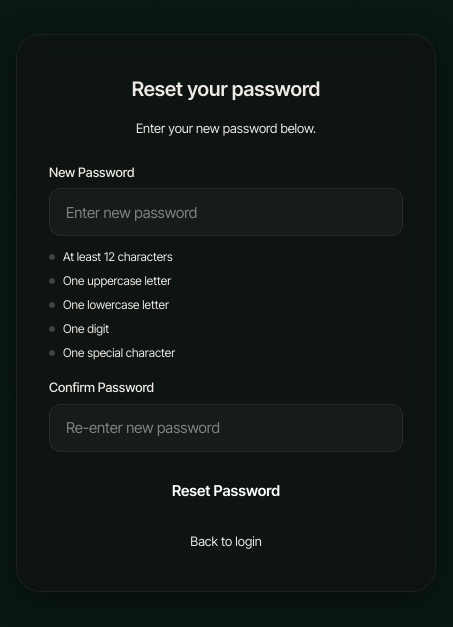
ResetPasswordPage › shows error when passwords do not match
In the password field labelled "New Password": (226,212) [49,188,403,236], type "NewPassword2@"
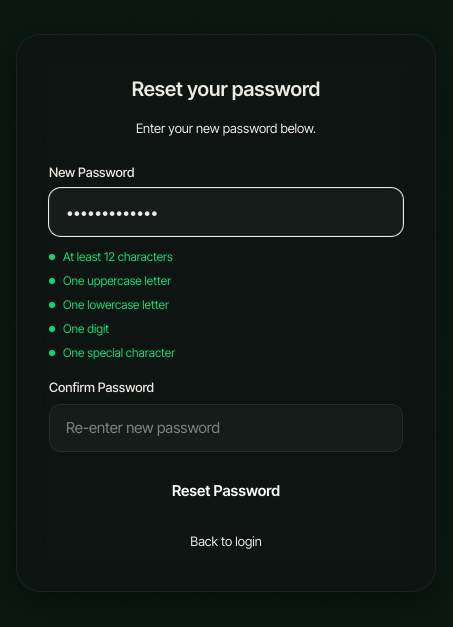
In the password field labelled "Confirm Password": (226,428) [49,404,403,452], type "Different2@!"
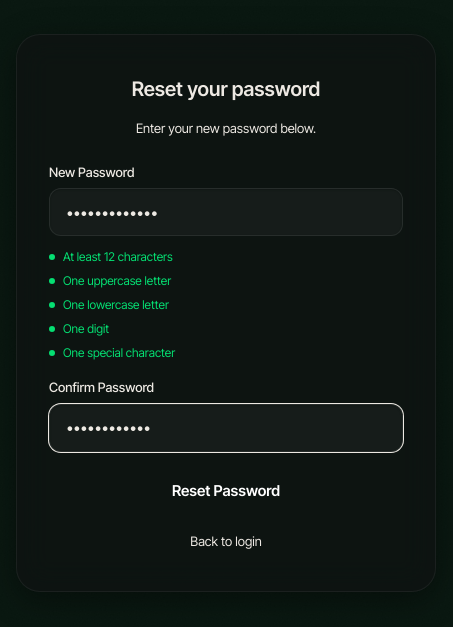
Click the button "Reset Password": (226,492) [49,468,403,516]
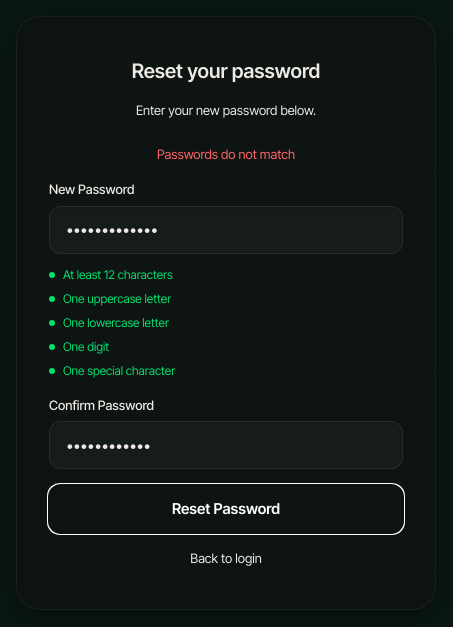
Expected: the text "Passwords do not match" is shown, [157,146,295,162]
